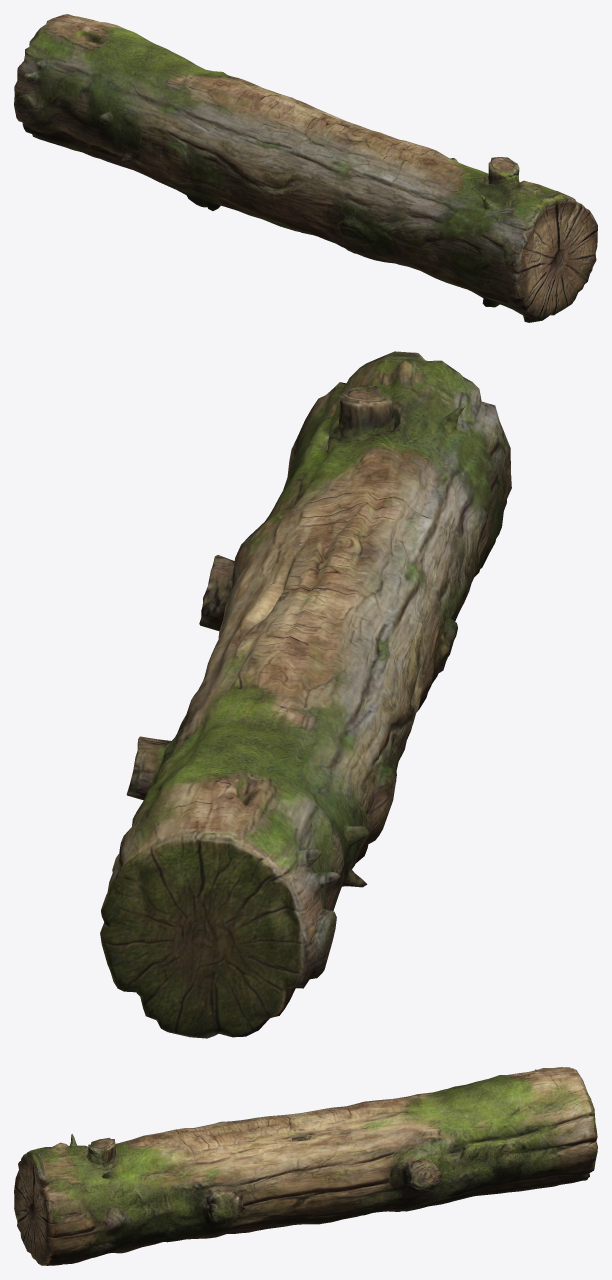
Rendered from tree_trunk.fbx.
3 renders of one model, top to bottom at view 1: azimuth 30°, elevation 25°; view 2: azimuth 150°, elevation 25°; view 3: azimuth 270°, elevation 25°, orthographic. The views are drawn at different scales.
Visible parts, largest first — view 1: trunk0_MID_RES; view 2: trunk0_MID_RES; view 3: trunk0_MID_RES.
Part boxes in pixels (x1,y1,x2,y2): trunk0_MID_RES: [14, 14, 597, 322]; trunk0_MID_RES: [100, 351, 511, 1038]; trunk0_MID_RES: [14, 1067, 597, 1265].
Bounding box in the file's own units: 103 × 43.95 × 199.
